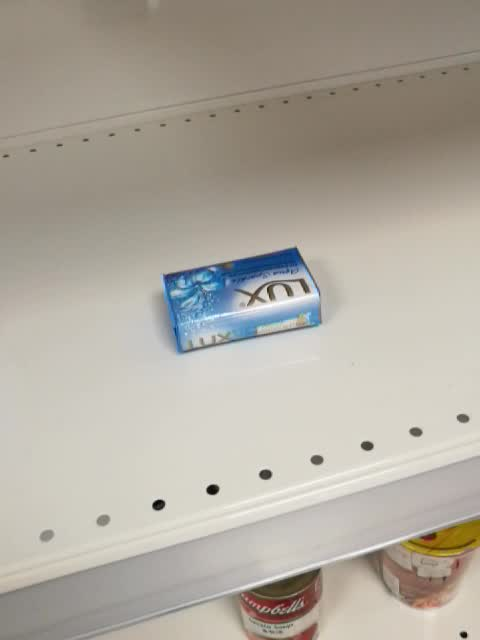soap: (161, 245, 323, 355)
